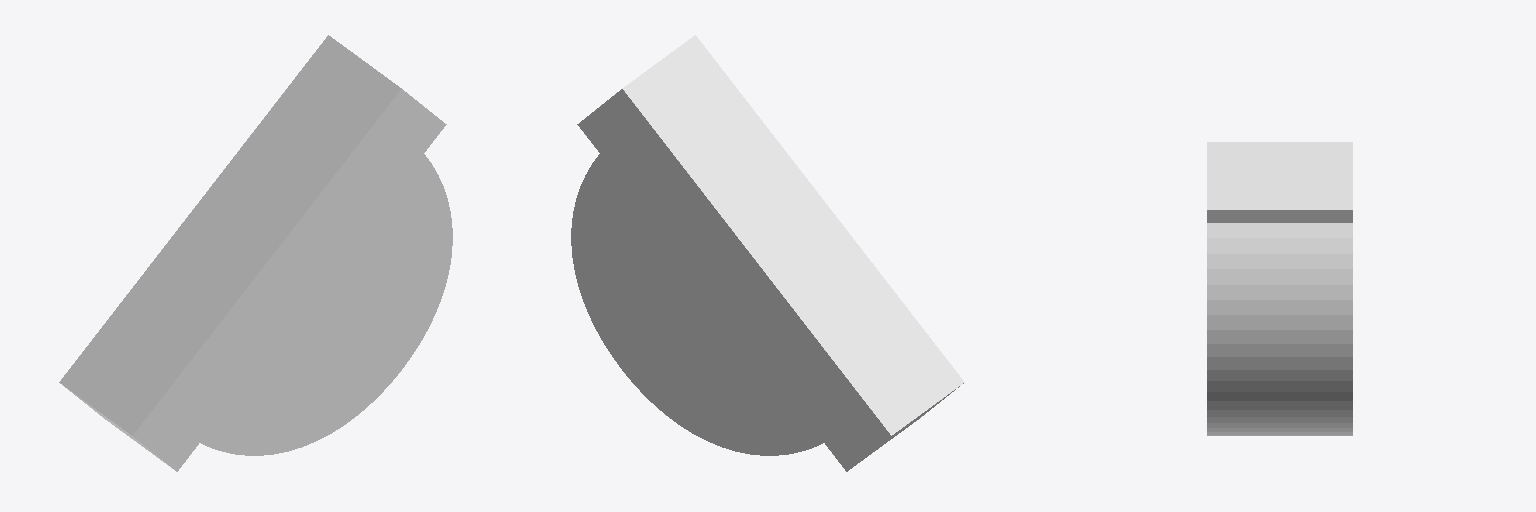
The model's file is IRIDIAepuck3D_Nov2019_RightLED.obj.
3 views of the same model, side by side, from view 1: azimuth 30°, elevation 25°; view 2: azimuth 150°, elevation 25°; view 3: azimuth 270°, elevation 25° (orthographic).
Parts seen in each view (by area): view 1: object_1; view 2: object_1; view 3: object_1.
Part boxes in pixels (x1,y1,x2,y2): object_1: (59, 35, 452, 471); object_1: (571, 35, 964, 471); object_1: (1207, 142, 1352, 435).
Size of the model in its own units: 0.0042 by 0.0042 by 0.0017.